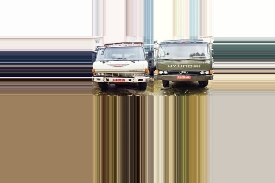plate: (176, 73, 192, 80), (112, 78, 124, 83)
